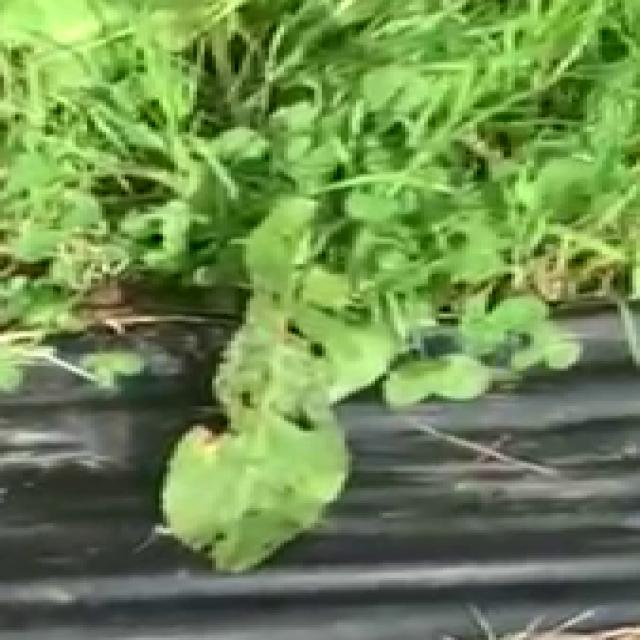organic waste: (65, 75, 478, 578)
